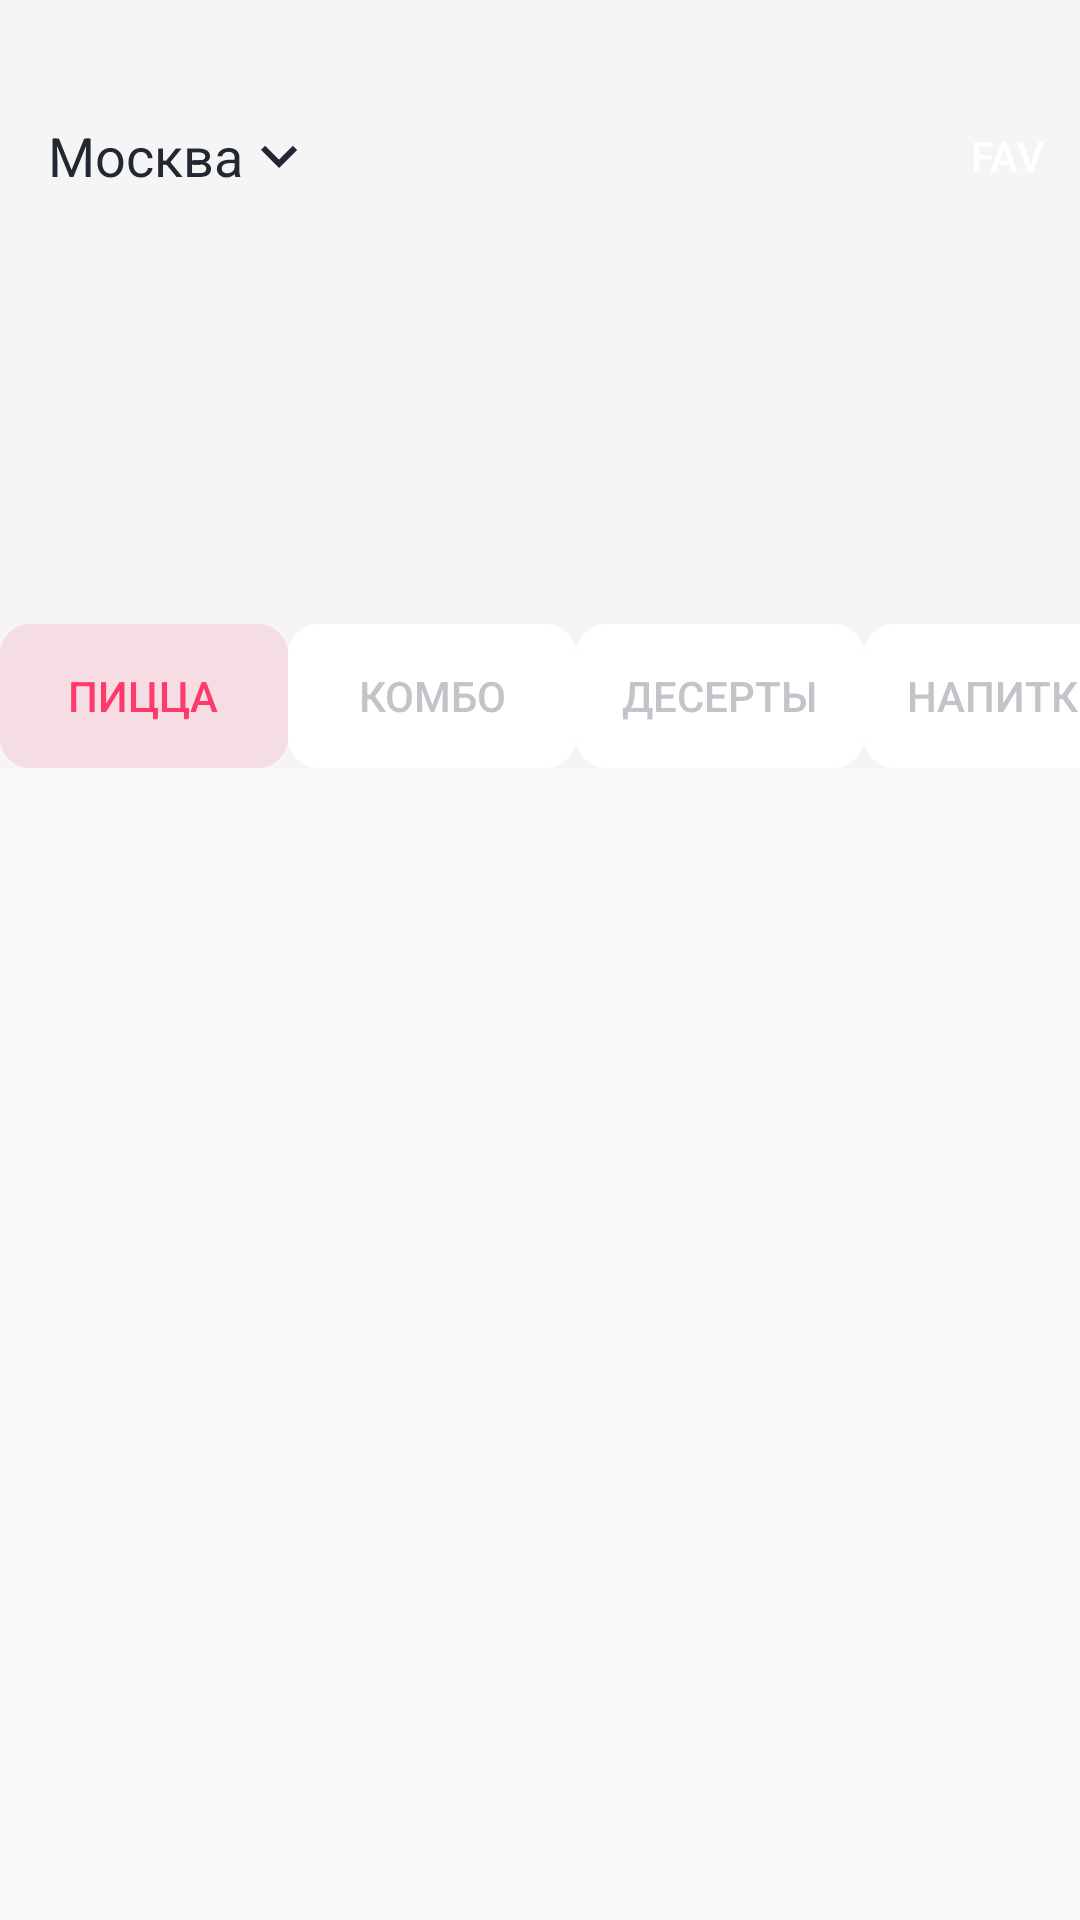

Icon bounding boxes for this 1080px x 1920px phone screenshot, format (x1=x1, y1=y1, x2=x2, y2=y2):
Down Arrow: (x1=261, y1=146, x2=297, y2=168)
